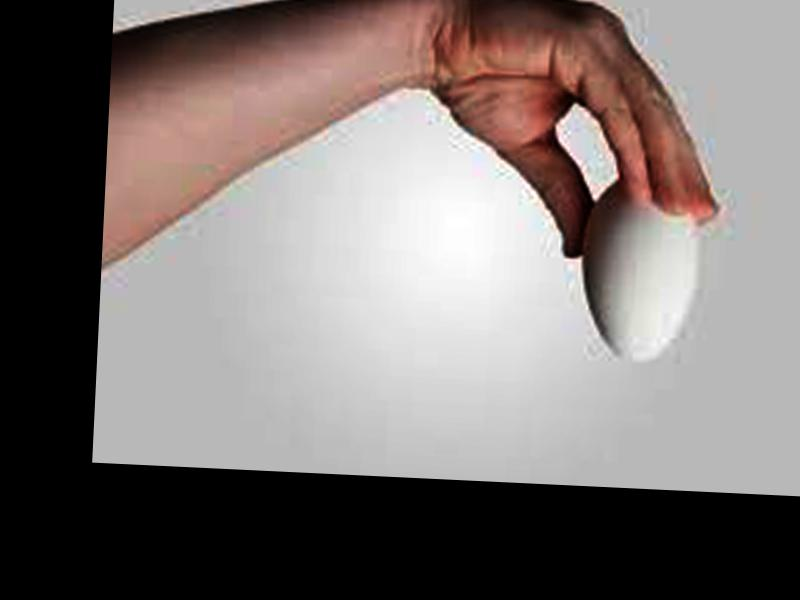Eggs: (577, 175, 706, 367)
